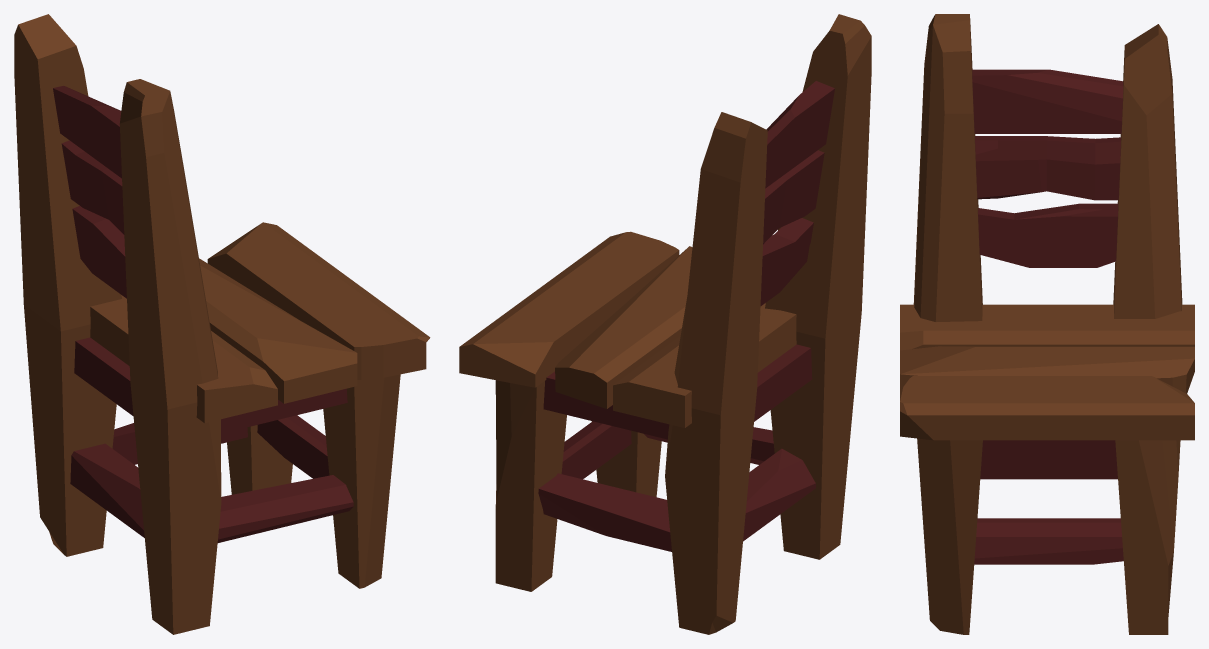
Rendered from Chair_2_Red.fbx.
3 renders of one model, left to right at view 1: azimuth 30°, elevation 25°; view 2: azimuth 150°, elevation 25°; view 3: azimuth 270°, elevation 25°, orthographic. The views are drawn at different scales.
Parts seen in each view (by area): view 1: Cube.211, Cube.210, Cube.239, Cube.213, Cube.238, Cube.237, Cube.217, Cube.216, Cube.235, Cube.234, Cube.236, Cube.212 (+4 smaller); view 2: Cube.210, Cube.211, Cube.239, Cube.212, Cube.238, Cube.218, Cube.237, Cube.235, Cube.216, Cube.234, Cube.236, Cube.213 (+4 smaller); view 3: Cube.239, Cube.211, Cube.210, Cube.237, Cube.212, Cube.213, Cube.235, Cube.238, Cube.234, Cube.236, Cube.215, Cube.216 (+1 smaller).
Boxes of the visible parts, x1,y1,x2,y2 form: Cube.211: (119,79,221,634); Cube.210: (14,14,121,556); Cube.239: (207,222,430,379); Cube.213: (323,374,400,588); Cube.238: (199,258,357,403); Cube.237: (90,295,277,423); Cube.217: (217,475,353,542); Cube.216: (70,443,144,537); Cube.235: (53,86,121,178); Cube.234: (61,140,124,234); Cube.236: (72,206,126,298); Cube.212: (227,425,292,494); Cube.210: (665,112,767,634); Cube.211: (765,14,871,559); Cube.239: (459,231,679,387); Cube.212: (495,380,566,591); Cube.238: (555,246,692,408); Cube.218: (538,473,671,551); Cube.237: (613,303,796,427); Cube.235: (765,81,834,188); Cube.216: (743,448,815,541); Cube.234: (763,150,824,244); Cube.236: (760,218,813,305); Cube.213: (591,421,661,497); Cube.239: (900,376,1194,440); Cube.211: (913,14,982,321); Cube.210: (1113,24,1182,318); Cube.237: (900,304,1194,350); Cube.212: (1115,440,1180,634); Cube.213: (917,438,982,634); Cube.235: (972,69,1123,133); Cube.238: (900,346,1194,400); Cube.234: (975,136,1120,200); Cube.236: (978,203,1118,267); Cube.215: (974,518,1123,564); Cube.216: (980,458,1117,479).
Size of the model in its own units: 235 by 438 by 231.
